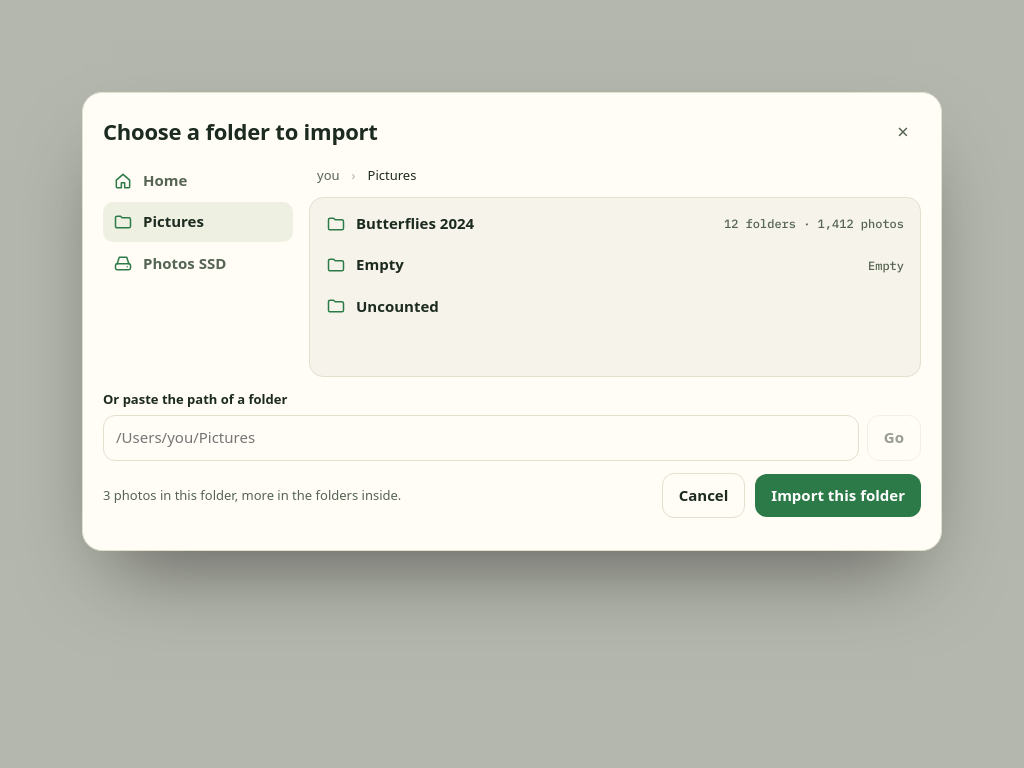
Test case: a pasted path opens that folder; one that cannot be found says so and keeps the folder shown
The image size is (1024, 768).
Expected: the list named "Folders in Pictures" is shown, left=309, top=197, right=921, bottom=377
Step 1. Type "/nowhere" into the field labelled "Or paste the path of a folder" → (481, 438), box left=103, top=415, right=859, bottom=461
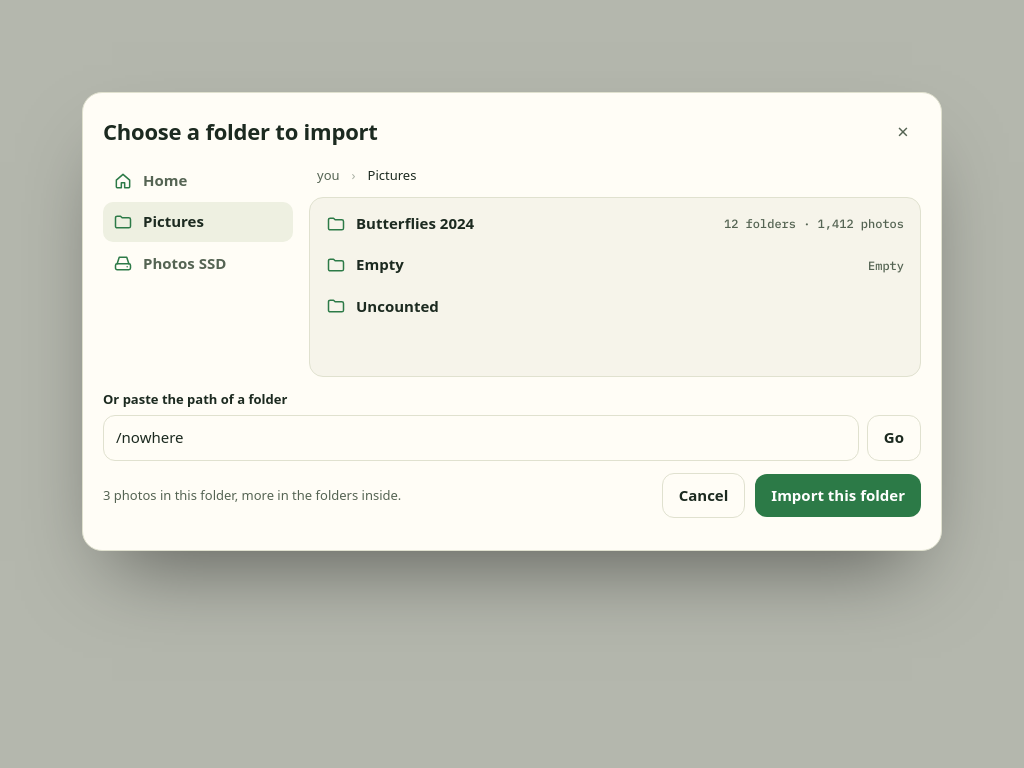
Step 2. Submit the form "Or paste the path of a folder", box left=103, top=389, right=921, bottom=461
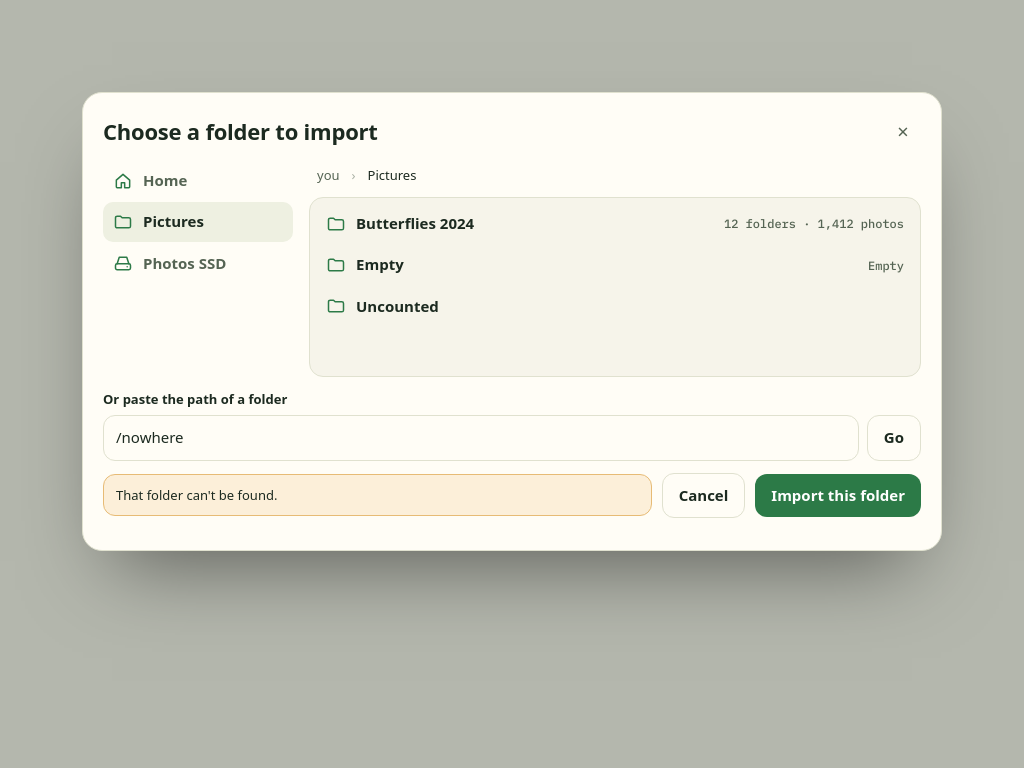
Expected: the list named "Folders in Pictures" is shown, left=309, top=197, right=921, bottom=377
Now the message reads "That folder can't be found.", box left=116, top=486, right=277, bottom=504
Step 3. Replace the text in the field labelled "Or paste the path of a folder" with "  /Users/you/Pictures/Butterflies 2024 " → (481, 438), box left=103, top=415, right=859, bottom=461
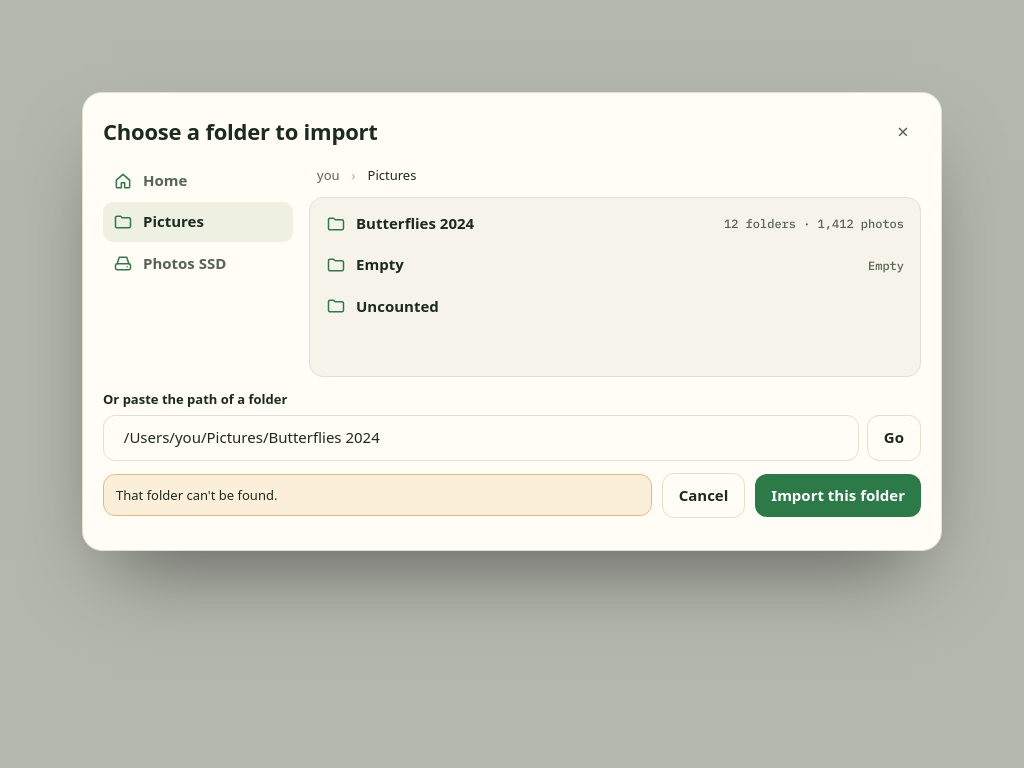
Step 4. Submit the form "Or paste the path of a folder", box left=103, top=389, right=921, bottom=461
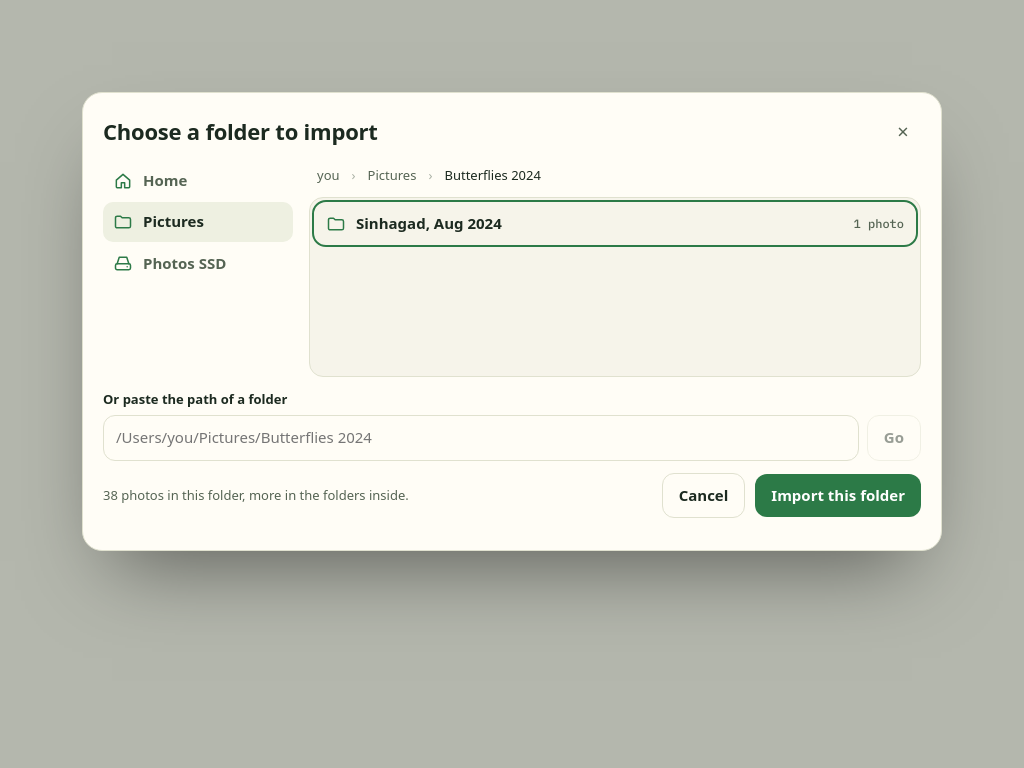
Now the list named "Folders in Butterflies 2024" is shown, box left=309, top=197, right=921, bottom=377
Now the message "That folder can't be found." is gone
Now the field labelled "Or paste the path of a folder" is empty, box left=103, top=415, right=859, bottom=461
